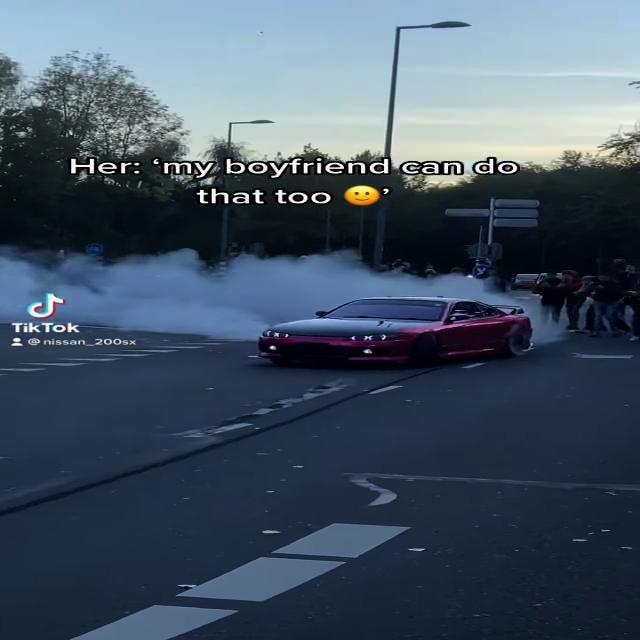car: (255, 293, 538, 366)
